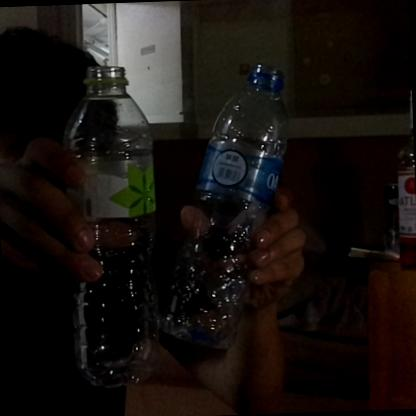plastic_bottles: (149, 66, 298, 354), (59, 63, 157, 390)
